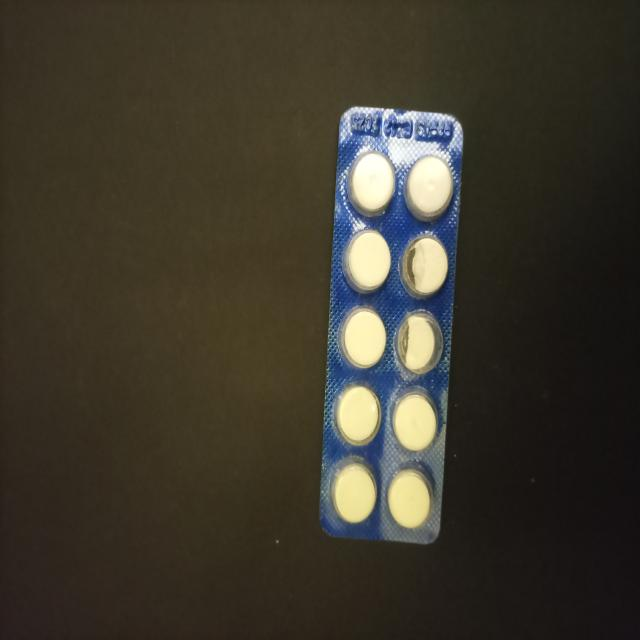defect: (392, 309, 448, 378), (399, 230, 452, 302)
